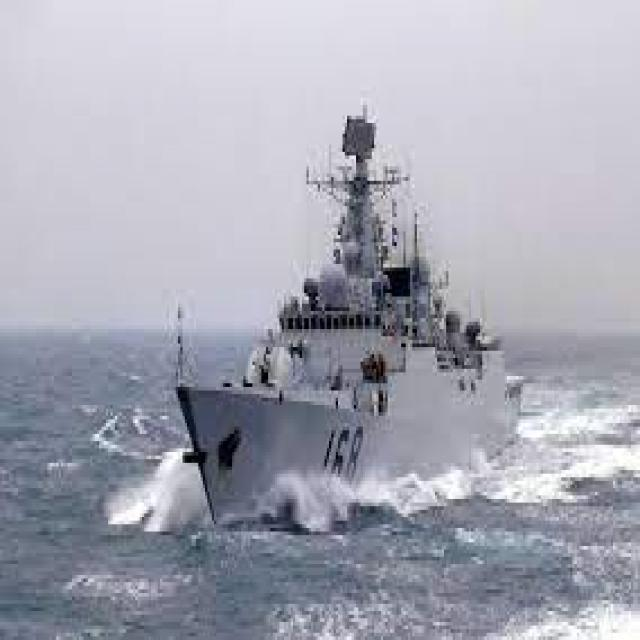navalvessels: (170, 107, 533, 535)
